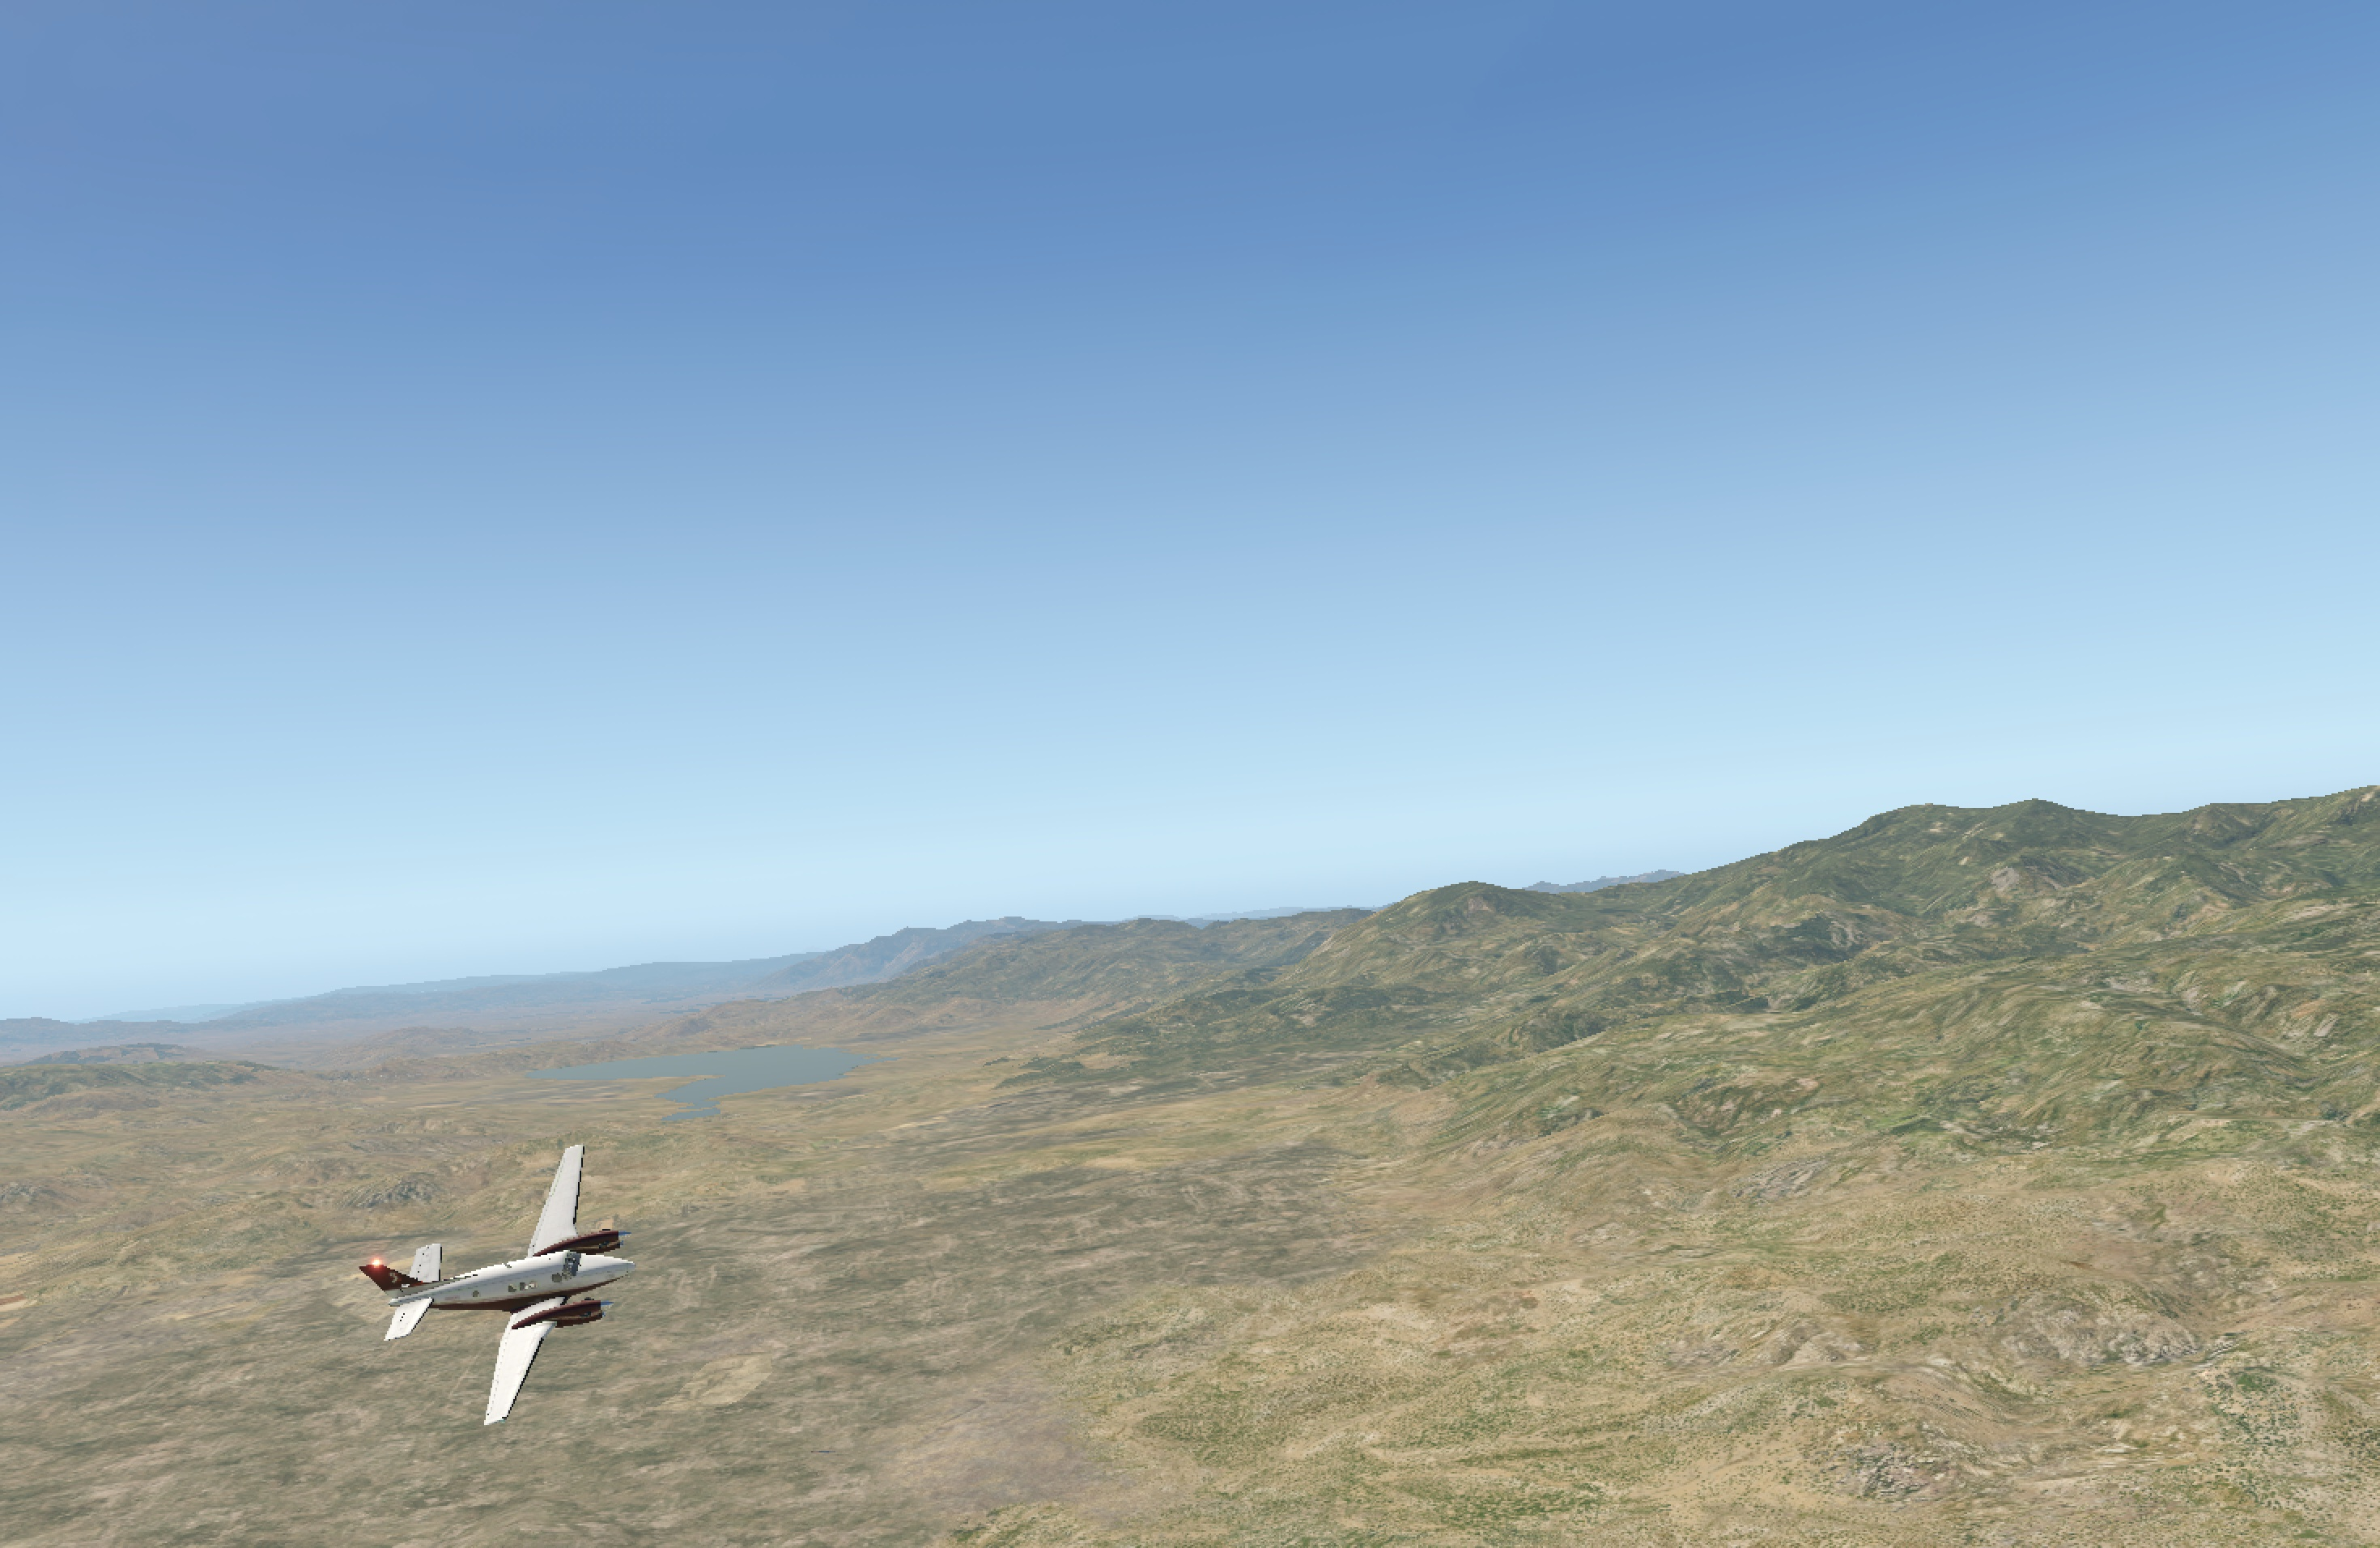aircraft: (382, 1222, 734, 1354)
